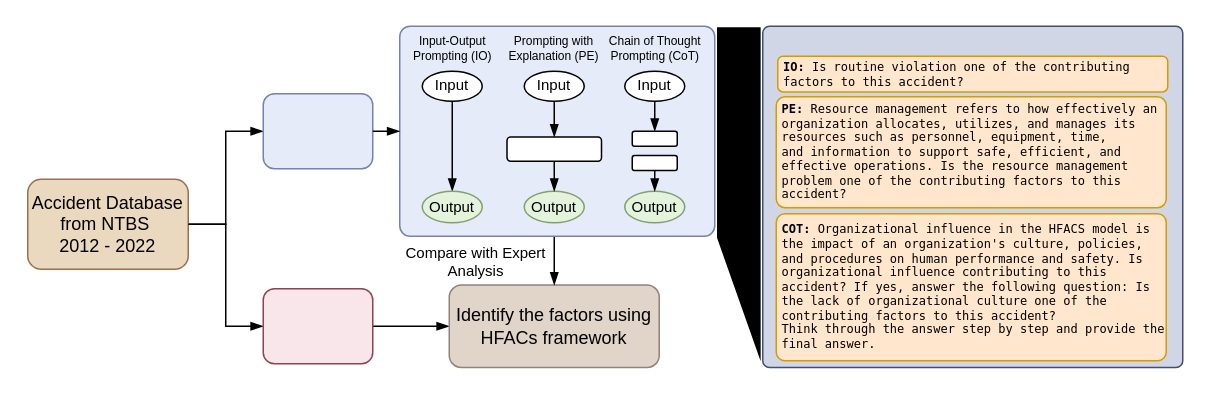
This 1209x395 diagram has some shape labels left out. Each missing label, with the box of its shape:
Analysis by Experts: (262, 287, 373, 364)
Analysis using LLM: (262, 92, 373, 169)
Example Prompts: (761, 25, 1183, 368)
Explanation: (506, 135, 602, 161)
